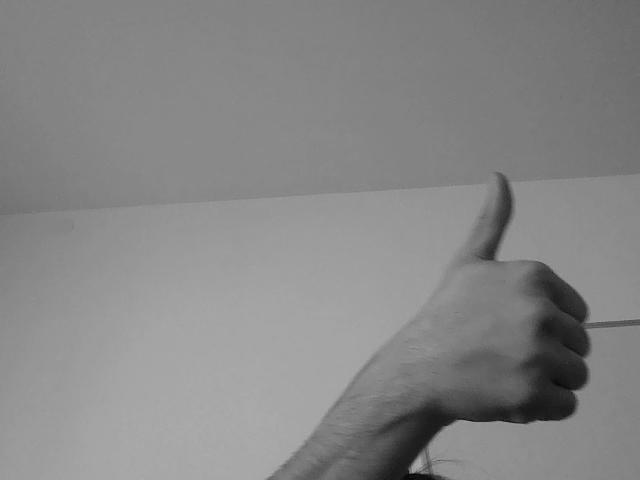friend: (432, 152, 610, 444)
